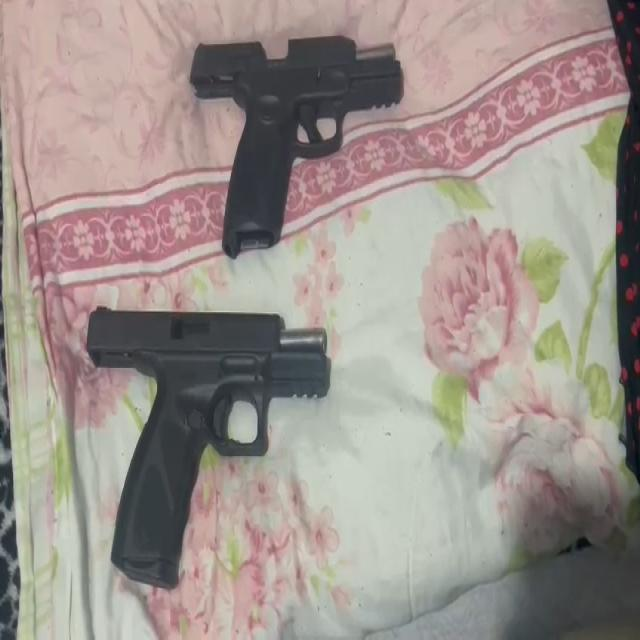gun: (82, 302, 335, 590), (190, 36, 404, 265)
